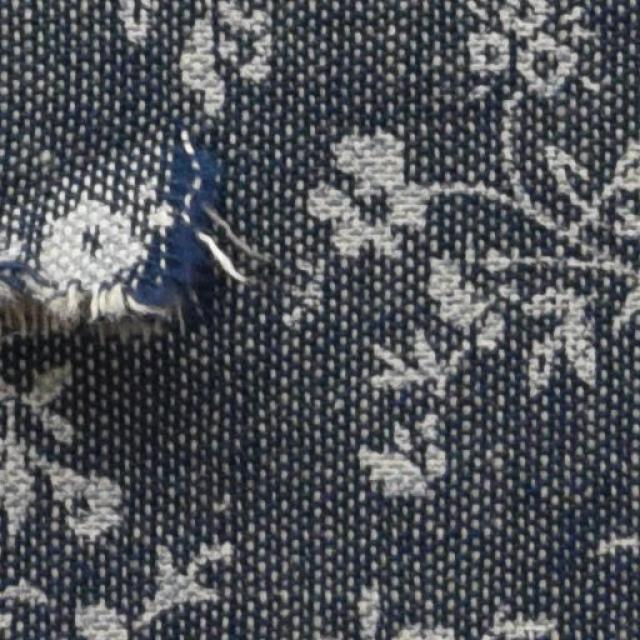Snag: (3, 128, 262, 327)
